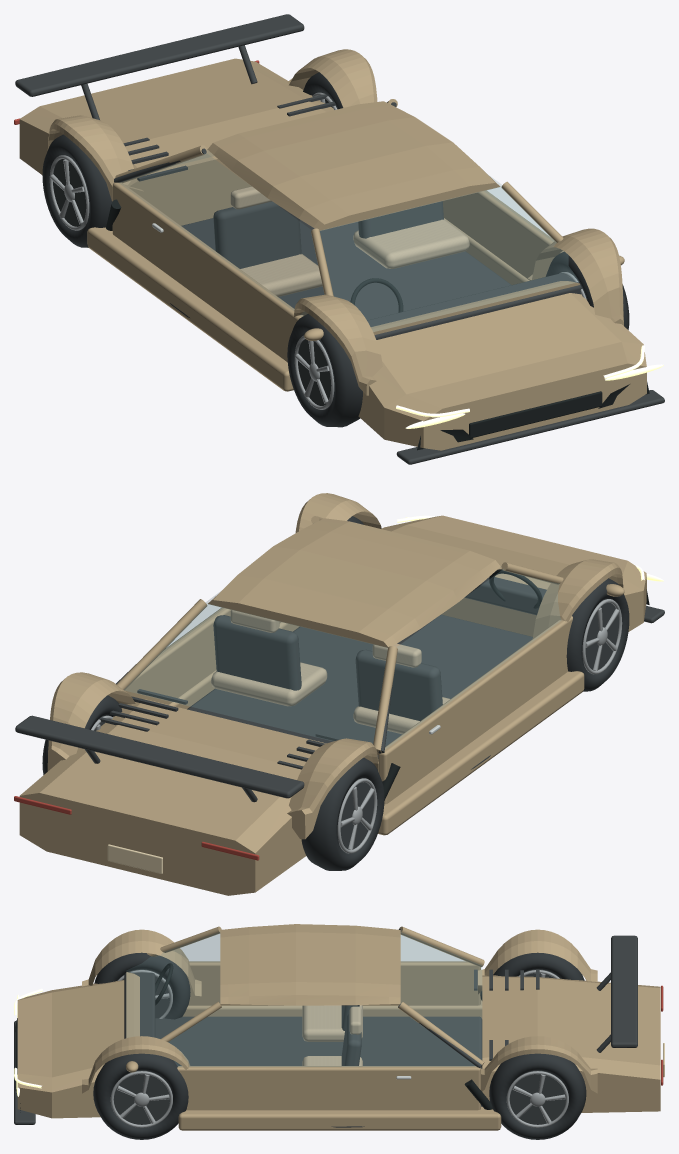
The model's file is halo_vector-80f6d2bea2f4.glb.
The picture shows the model from 3 angles, top to bottom: view 1: azimuth 30°, elevation 25°; view 2: azimuth 150°, elevation 25°; view 3: azimuth 270°, elevation 25°; orthographic projection. The views are drawn at different scales.
Visible parts, largest first — view 1: surface_#baa785 (×4), surface_Optical_smoke (×2), surface_graphite (×3), surface_rubber (×3), surface_linen, surface_black, surface_steel (×2), surface_lit; view 2: surface_#baa785 (×4), surface_Optical_smoke (×2), surface_graphite (×3), surface_rubber (×3), surface_linen, surface_steel (×2), surface_ivory, surface_black, surface_red; view 3: surface_#baa785 (×4), surface_Optical_smoke (×3), surface_graphite (×4), surface_rubber (×4), surface_steel (×2), surface_linen, surface_black, surface_lit.
Part boxes in pixels (x1=…): surface_#baa785 (×4): x1=19, y1=49, x2=646, y2=450; surface_Optical_smoke (×2): x1=120, y1=151, x2=578, y2=331; surface_graphite (×3): x1=15, y1=14, x2=664, y2=464; surface_rubber (×3): x1=42, y1=134, x2=629, y2=427; surface_linen: x1=230, y1=186, x2=469, y2=296; surface_black: x1=106, y1=199, x2=602, y2=438; surface_steel (×2): x1=49, y1=155, x2=334, y2=409; surface_lit: x1=396, y1=345, x2=663, y2=428; surface_#baa785 (×4): x1=19, y1=493, x2=646, y2=895; surface_Optical_smoke (×2): x1=124, y1=569, x2=560, y2=748; surface_graphite (×3): x1=15, y1=577, x2=664, y2=849; surface_rubber (×3): x1=42, y1=578, x2=629, y2=870; surface_linen: x1=211, y1=610, x2=450, y2=734; surface_steel (×2): x1=337, y1=599, x2=622, y2=853; surface_ivory: x1=107, y1=844, x2=162, y2=873; surface_black: x1=382, y1=569, x2=542, y2=800; surface_red: x1=14, y1=796, x2=259, y2=860; surface_#baa785 (×4): x1=17, y1=924, x2=660, y2=1130; surface_Optical_smoke (×3): x1=127, y1=932, x2=481, y2=1066; surface_graphite (×4): x1=14, y1=935, x2=637, y2=1127; surface_rubber (×4): x1=93, y1=952, x2=586, y2=1139; surface_steel (×2): x1=110, y1=1071, x2=568, y2=1127; surface_linen: x1=302, y1=1005, x2=362, y2=1065; surface_black: x1=15, y1=963, x2=492, y2=1109; surface_lit: x1=14, y1=988, x2=42, y2=1096.
Size of the model in its own units: 2.21 by 1.06 by 4.82.
Materials: 13 (1 with a texture image).
